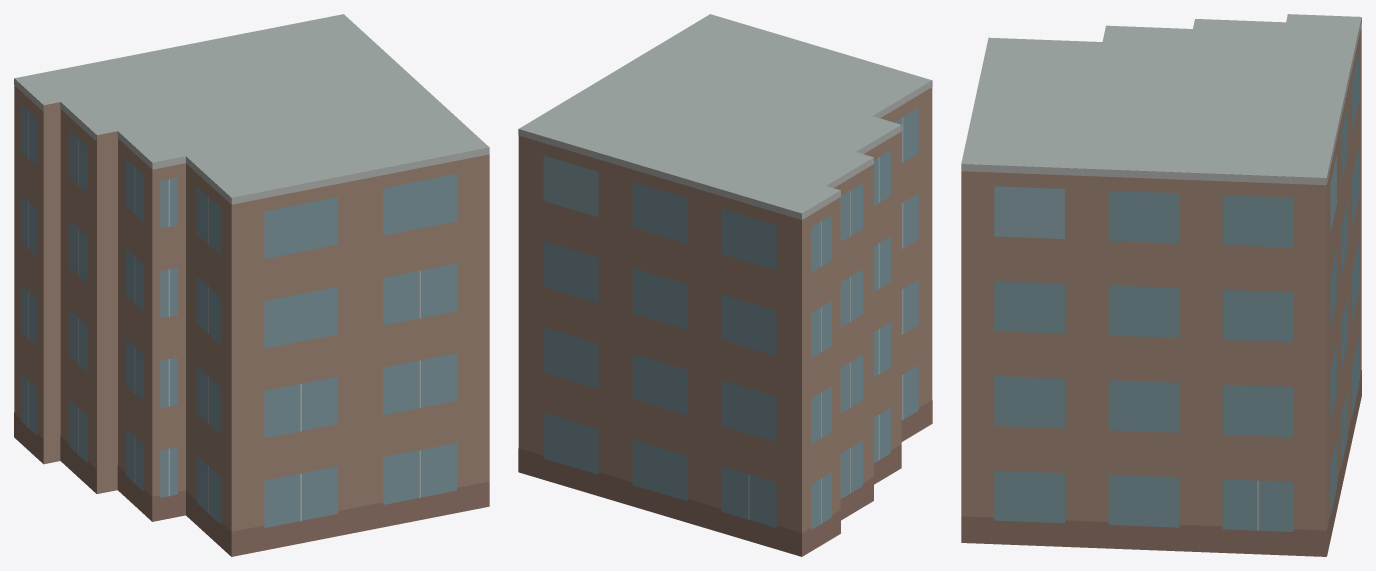
File: survey-upis-32706647.glb
3 renders of one model, left to right at view 1: azimuth 30°, elevation 25°; view 2: azimuth 150°, elevation 25°; view 3: azimuth 270°, elevation 25°, orthographic. The views are drawn at different scales.
Visible parts, largest first — view 1: survey-upis-32706647.tmp; view 2: survey-upis-32706647.tmp; view 3: survey-upis-32706647.tmp.
Part boxes in pixels (bbox=[...]): survey-upis-32706647.tmp: bbox=[14, 14, 489, 556]; survey-upis-32706647.tmp: bbox=[518, 14, 932, 556]; survey-upis-32706647.tmp: bbox=[961, 14, 1361, 556].
Size of the model in its own units: 11.89 by 12.8 by 12.28.
